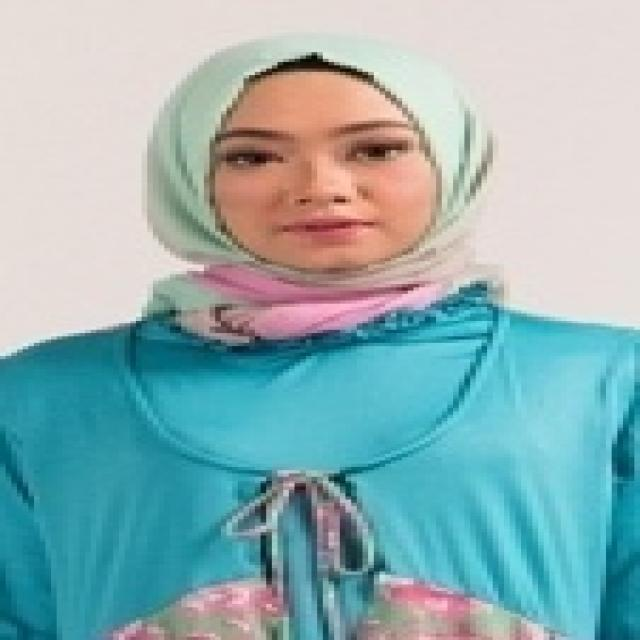head: (146, 33, 499, 276)
